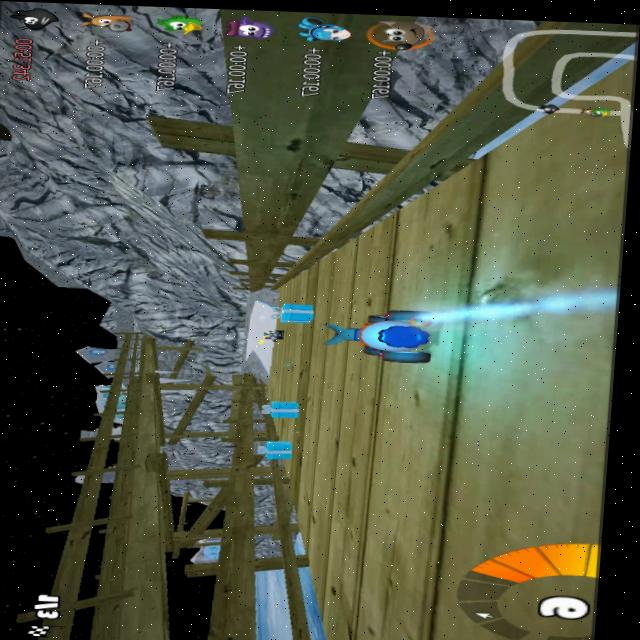bonus: (254, 438, 299, 461), (275, 301, 315, 326), (264, 398, 303, 420)
enemy_kart: (263, 327, 286, 343)
player_kart: (326, 300, 446, 365)
